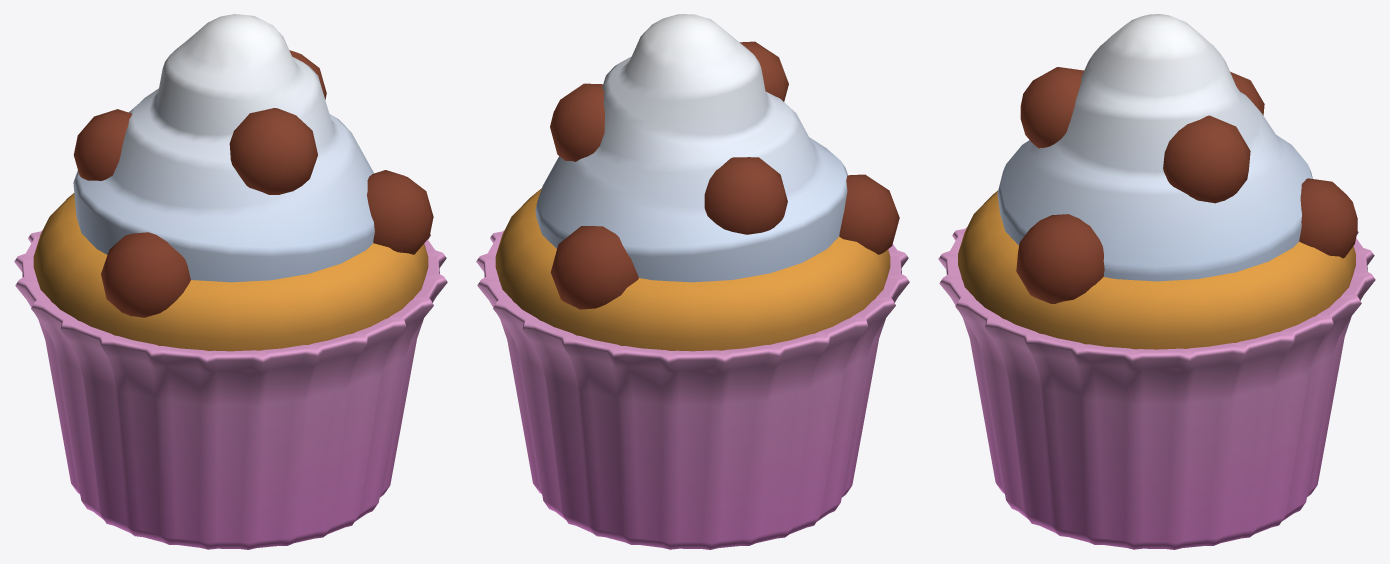
File: Cupcake_04.glb
The picture shows the model from 3 angles, left to right: view 1: azimuth 30°, elevation 25°; view 2: azimuth 150°, elevation 25°; view 3: azimuth 270°, elevation 25°; orthographic projection.
Parts seen in each view (by area): view 1: Cupcake_04; view 2: Cupcake_04; view 3: Cupcake_04.
Part boxes in pixels (x1,y1,x2,y2): Cupcake_04: (14,14,447,549); Cupcake_04: (476,14,909,549); Cupcake_04: (938,14,1375,549).
Bounding box in the file's own units: 4.58 × 5.46 × 4.58.
2 materials, 2 textured.
